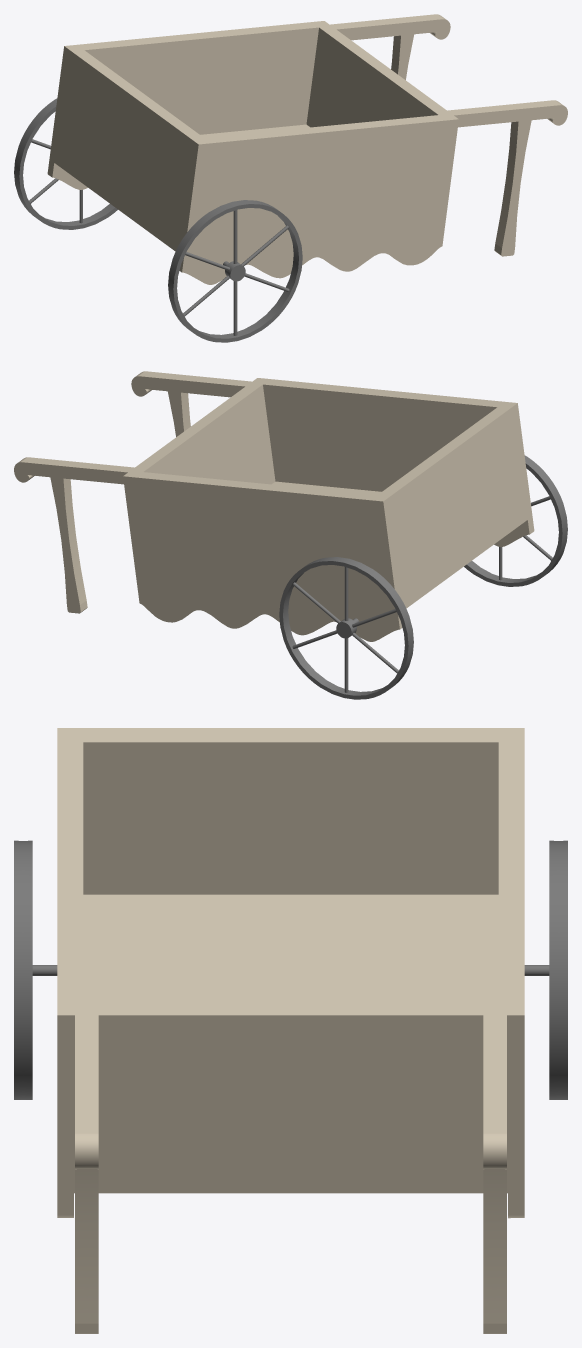
The model's file is 967_wagon.glb.
3 views of the same model, one above another, from view 1: azimuth 30°, elevation 25°; view 2: azimuth 150°, elevation 25°; view 3: azimuth 270°, elevation 25° (orthographic). The views are drawn at different scales.
Parts seen in each view (by area): view 1: Body, wheel; view 2: Body, wheel; view 3: Body, wheel.
Boxes of the visible parts, x1=… form: Body: x1=47, y1=14, x2=567, y2=284; wheel: x1=14, y1=98, x2=302, y2=342; Body: x1=14, y1=371, x2=534, y2=641; wheel: x1=279, y1=455, x2=567, y2=699; Body: x1=57, y1=728, x2=524, y2=1333; wheel: x1=14, y1=840, x2=567, y2=1099.
Size of the model in its own units: 1.59 by 0.716 by 1.07.
